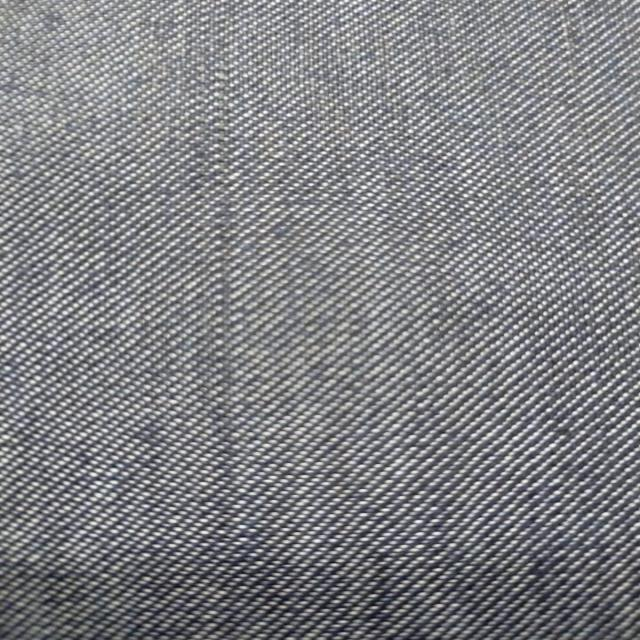Line: (218, 32, 233, 511)
